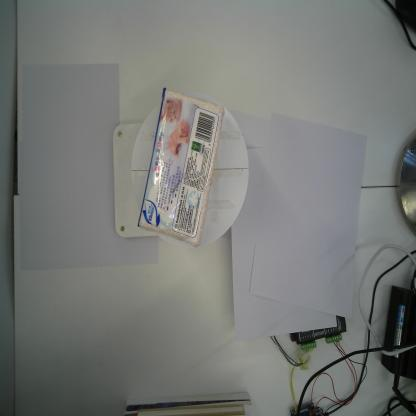Tissue: (134, 86, 224, 249)
